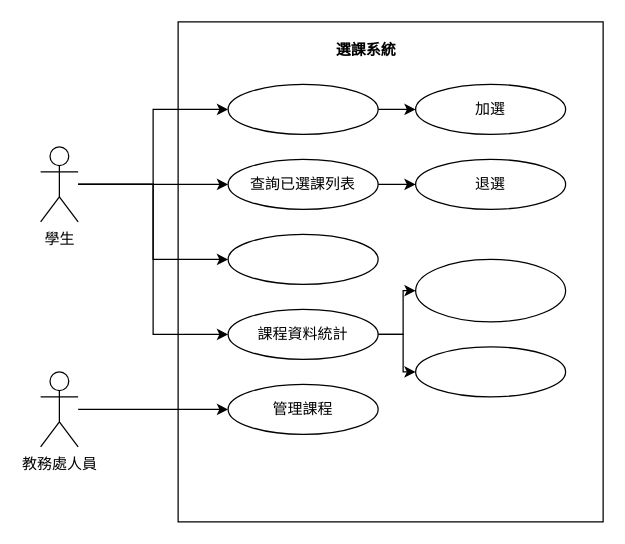
Some shapes in this 625 by 544 pixel diagram are drawn without their labels. The centre of each missing label's shape, as x and y in pixels:
查詢受歡迎的課程排名: [490,290]
查詢可選課列表: [302,108]
查詢已滿額課程: [490,371]
查詢課程詳細內容: [302,258]
